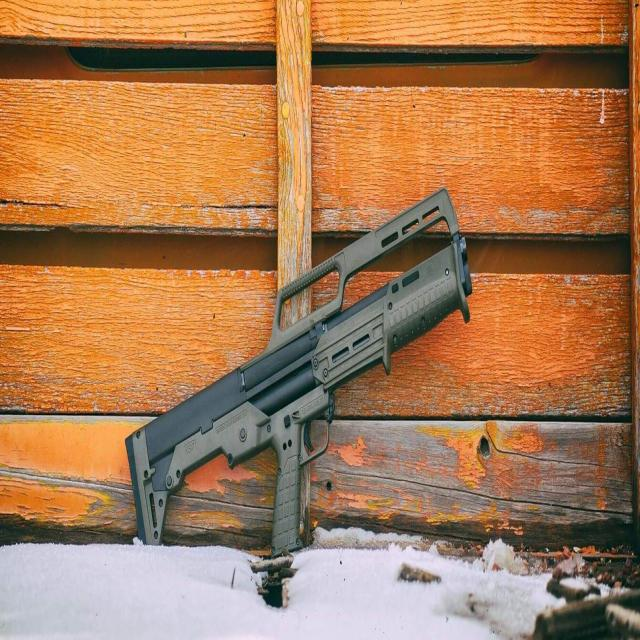Weapon: (126, 189, 471, 556)
